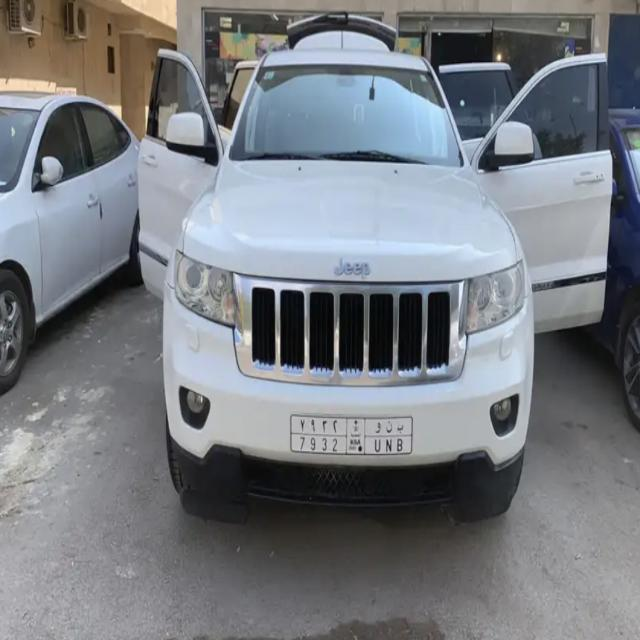license_plate: (290, 413, 413, 455)
